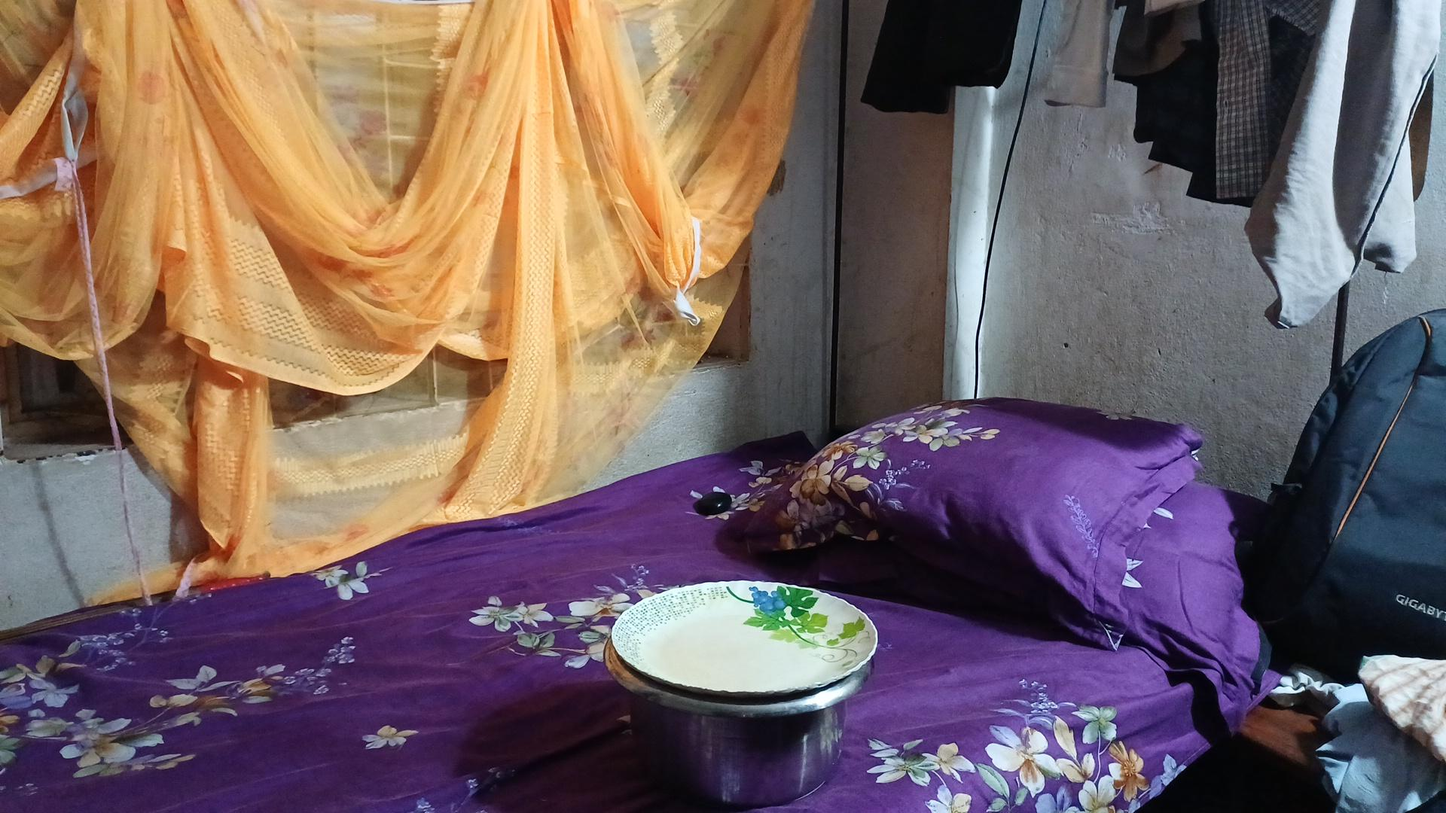Bag: (1279, 317, 1446, 651)
Bowl: (543, 569, 891, 792)
Pillow: (820, 375, 1221, 638)
